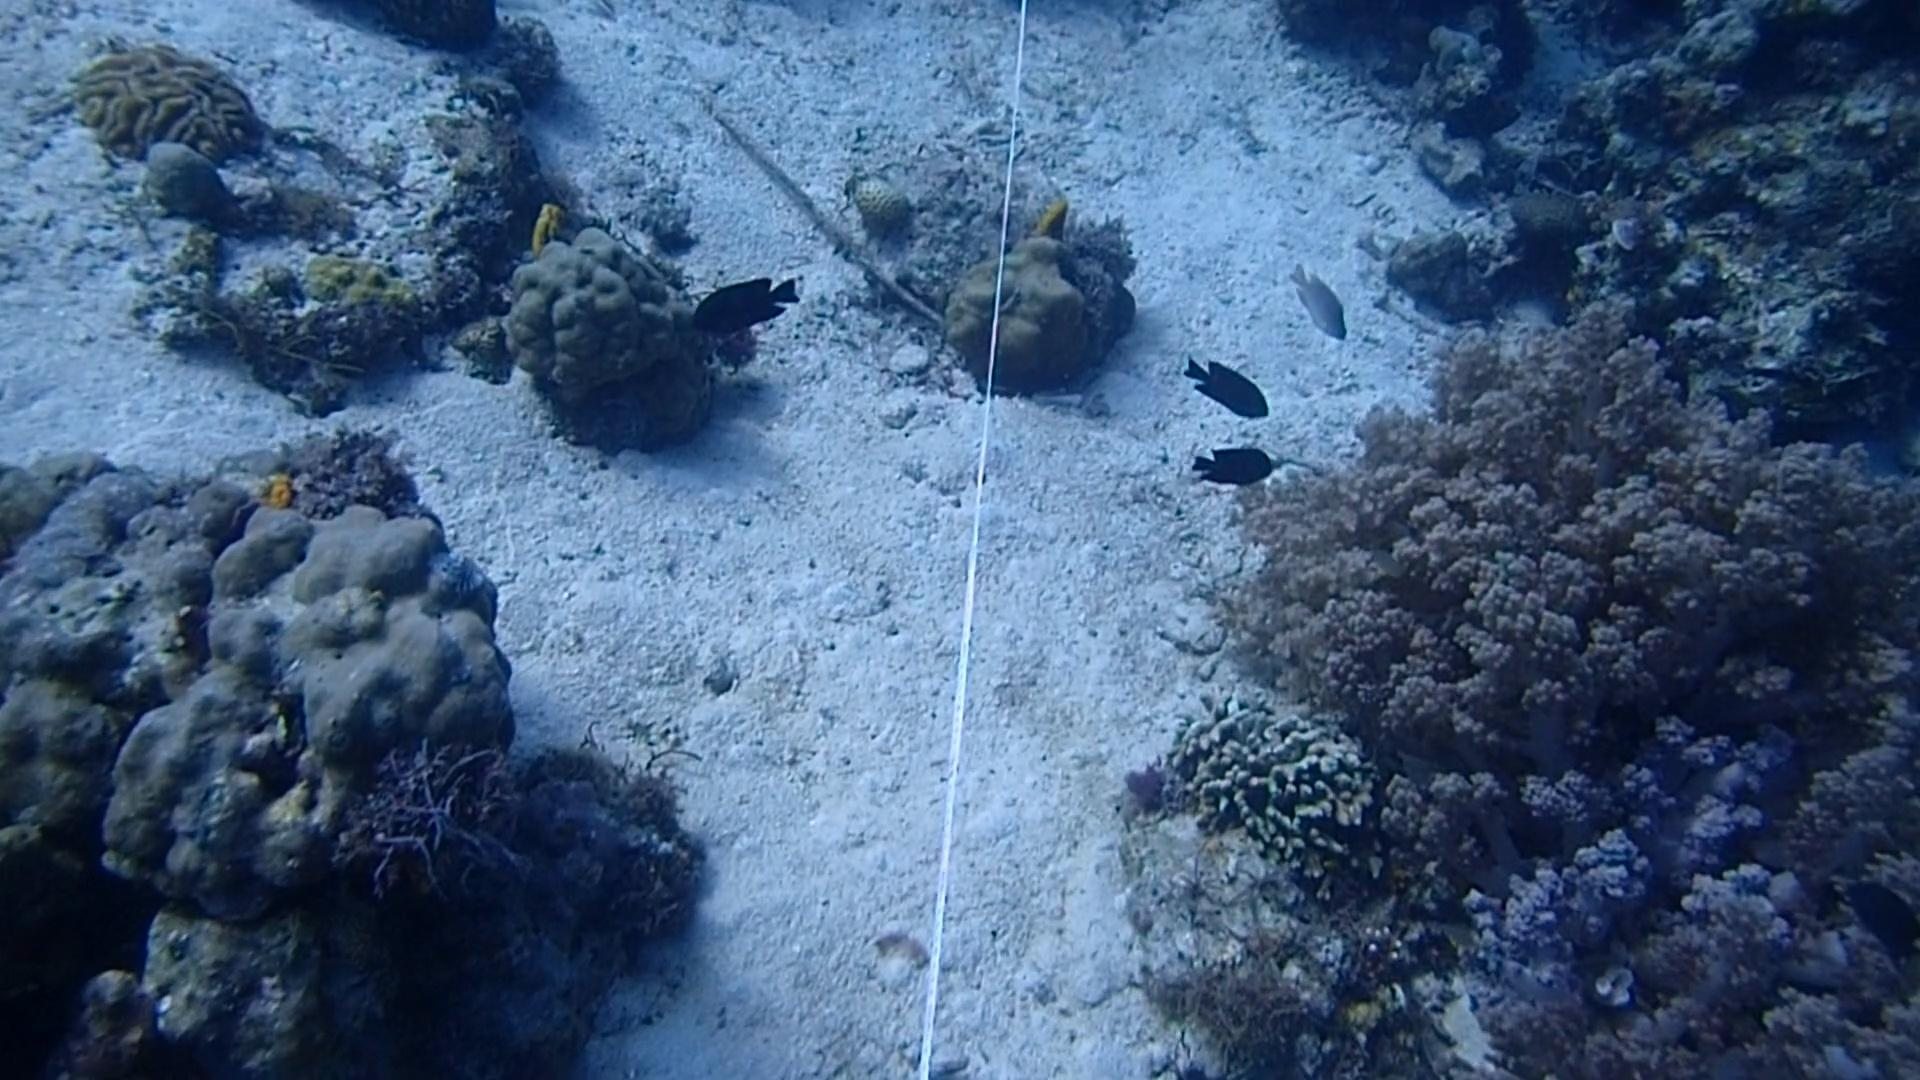Dark Fish: (676, 265, 795, 336), (1188, 352, 1280, 433), (1167, 439, 1279, 501), (1850, 872, 1920, 961)
Light Fish: (1283, 262, 1360, 344)
